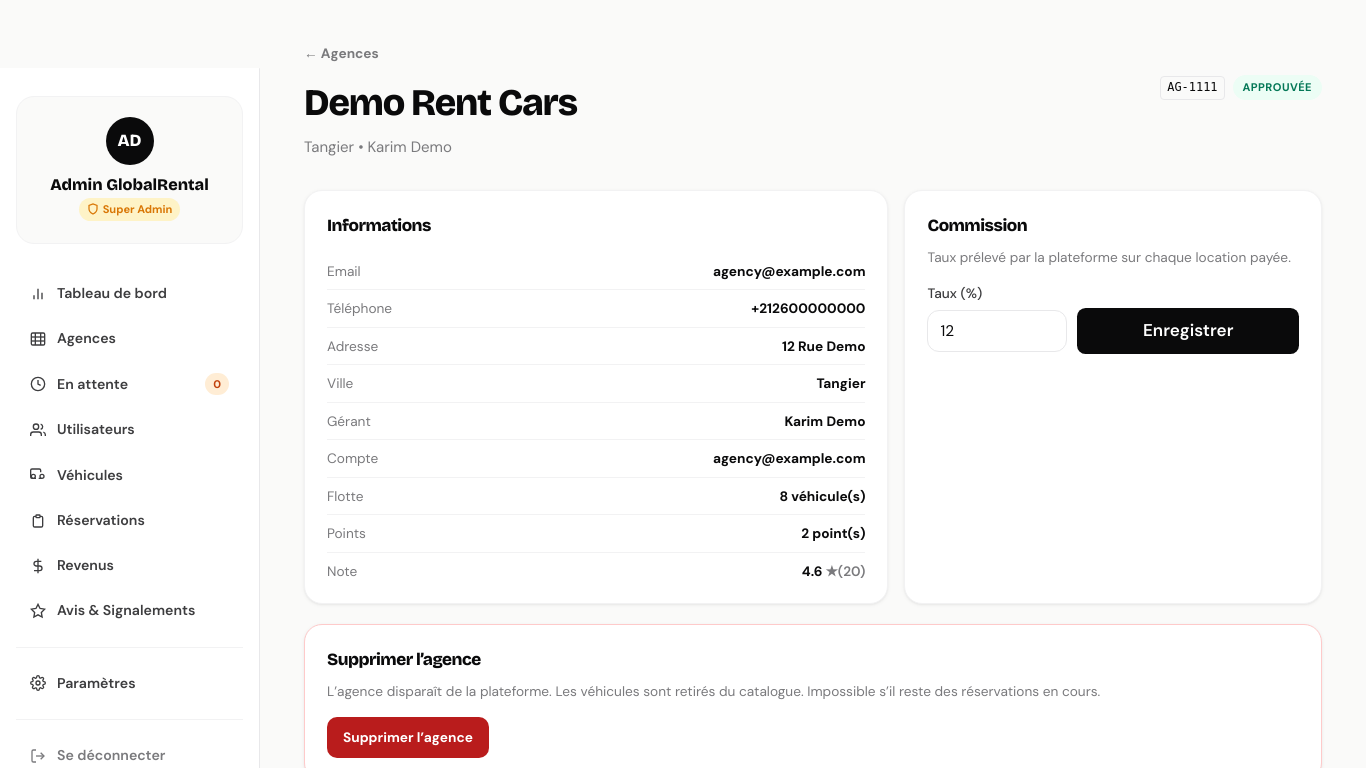
AdminAgencyDetail › enregistre la commission
The image size is (1366, 768).
Replace the text in the number field with id "agency-commission" with "20" at {"x": 998, "y": 331}, box [928,310,1068,352]
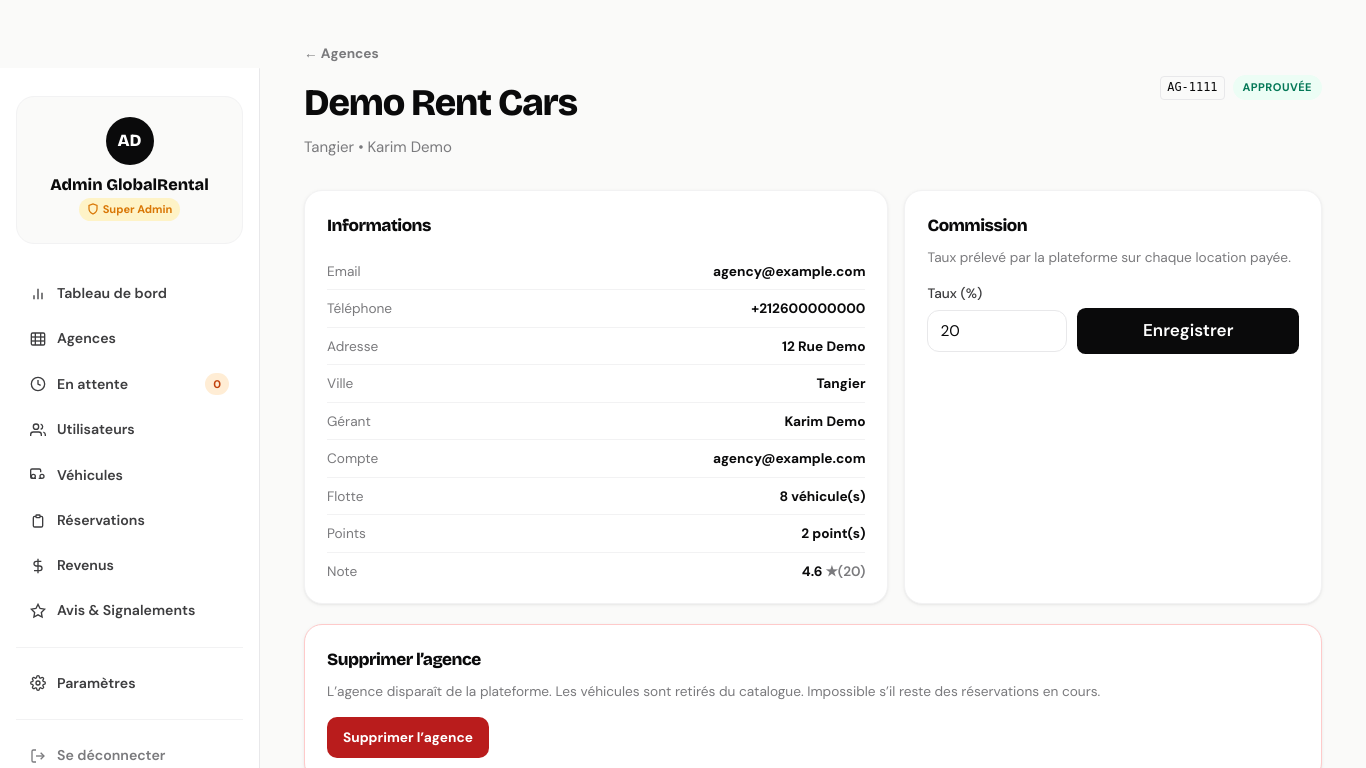
Submit the form, box [928,284,1299,354]
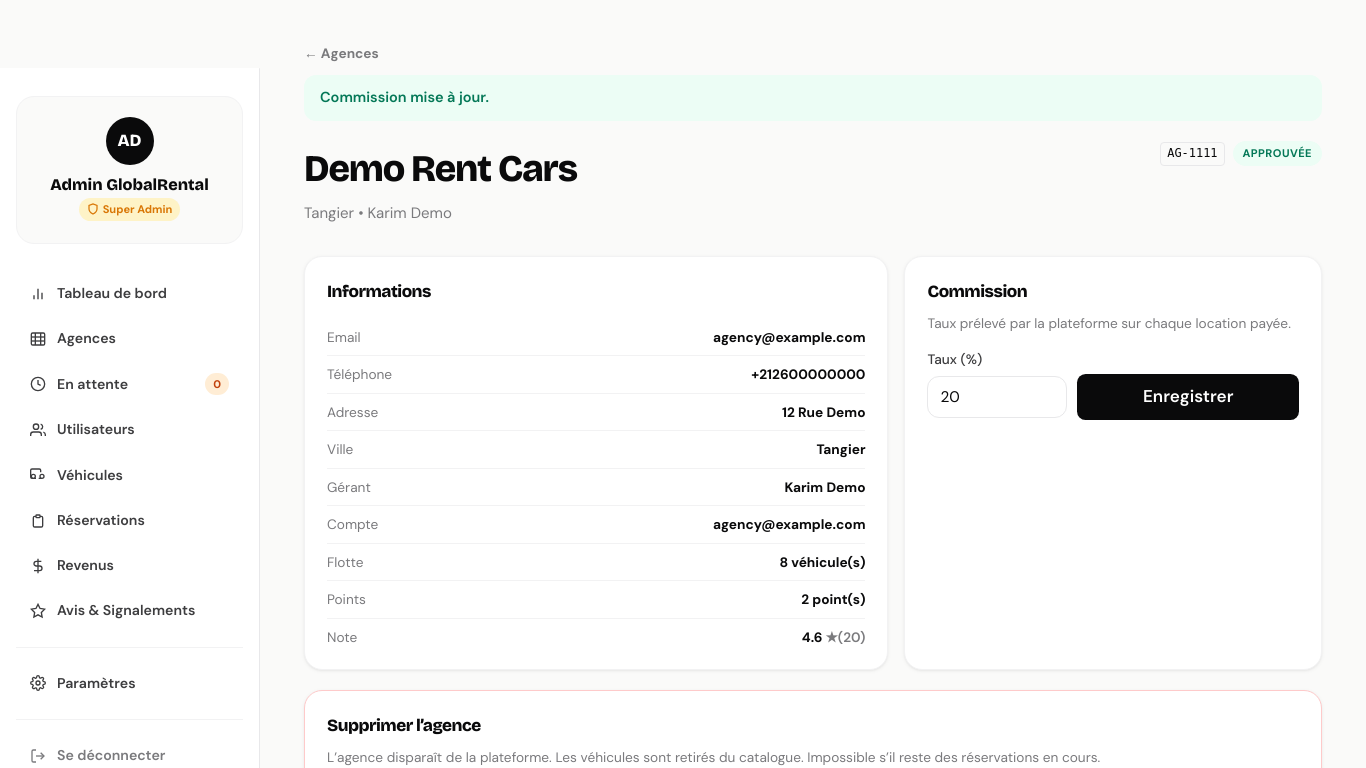
Check: the text "Commission mise à jour" is shown, box [320,88,489,106]
